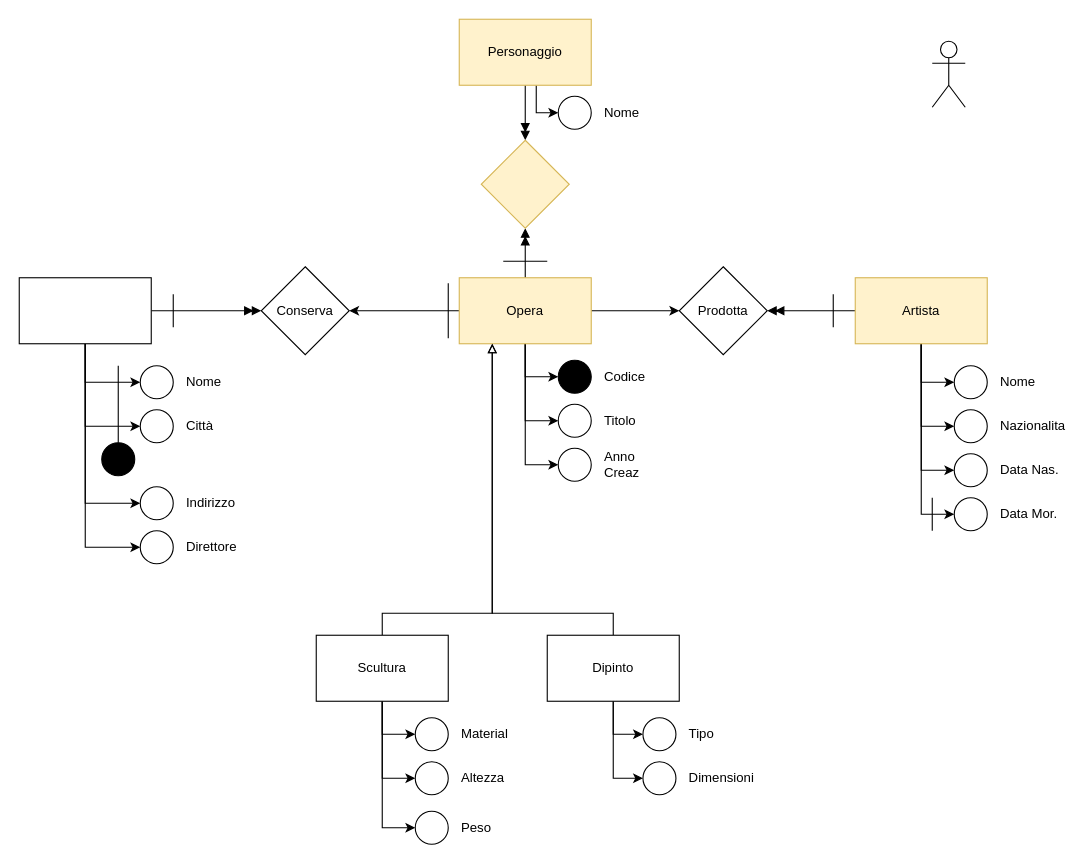
The diagram is 1085 pixels wide and 864 high, and some of its shapes have lost their labels. The shapes that lost their labels are listed below. From the top down, each one's centre as x and y in pixels, then its label:
At pixel 948 73: "Pino".
At pixel 524 183: "Contiene".
At pixel 84 310: "Museo".
